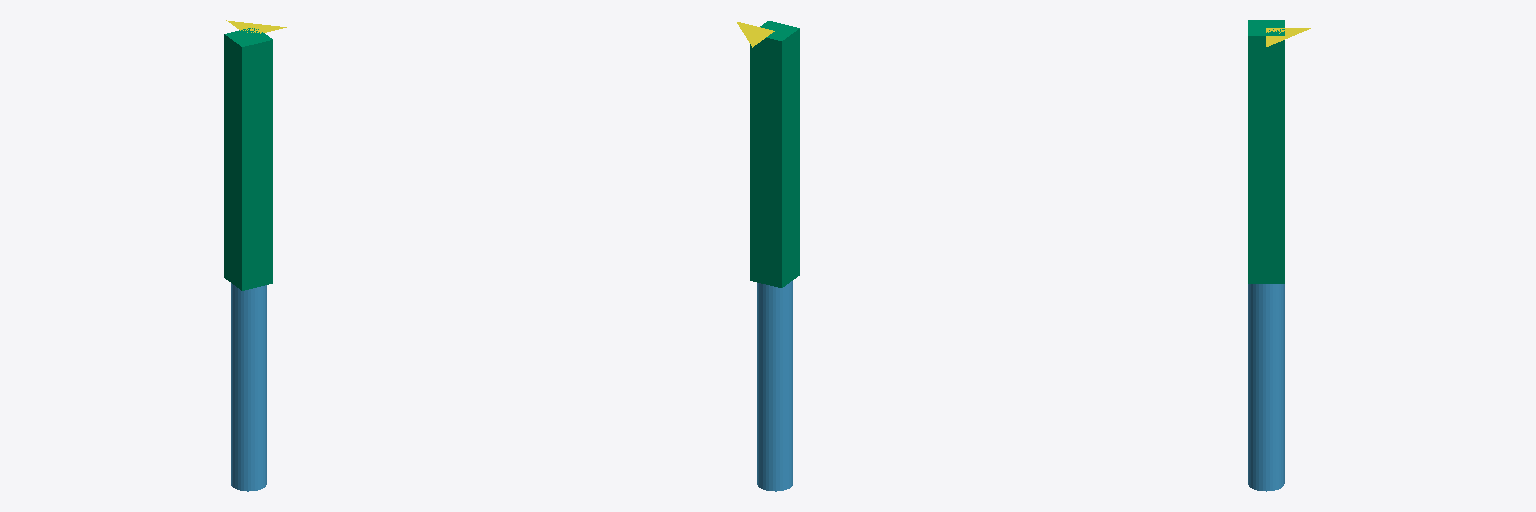
robot.urdf — xacro_arm:
<?xml version="1.0"?>
<!-- Hand-expanded plain-URDF twin of xacro_arm.xacro. The only intended
     difference: the tool mesh uses package:// where the xacro used
     $(find demo_pkg) — both must RESOLVE to the same absolute file. -->
<robot name="xacro_arm">
  <link name="base"/>

  <link name="lower">
    <visual>
      <origin xyz="0 0 0.125" rpy="0 0 0"/>
      <geometry><cylinder radius="0.02" length="0.25"/></geometry>
    </visual>
  </link>
  <joint name="lower_j" type="revolute">
    <origin xyz="0 0 0.1" rpy="0 0 0"/>
    <parent link="base"/>
    <child link="lower"/>
    <axis xyz="0 1 0"/>
    <limit lower="-1.5707963267948966" upper="1.5707963267948966" effort="10" velocity="2"/>
  </joint>

  <link name="upper">
    <visual>
      <origin xyz="0 0 0.15" rpy="0 0 0"/>
      <geometry><box size="0.04 0.04 0.3"/></geometry>
    </visual>
  </link>
  <joint name="upper_j" type="revolute">
    <origin xyz="0 0 0.25" rpy="0 0 0"/>
    <parent link="lower"/>
    <child link="upper"/>
    <axis xyz="0 -1 0"/>
    <limit lower="-1.5707963267948966" upper="1.5707963267948966" effort="10" velocity="2"/>
  </joint>

  <link name="tool">
    <visual>
      <geometry><mesh filename="package://demo_pkg/meshes/part.stl"/></geometry>
    </visual>
  </link>
  <joint name="tool_j" type="fixed">
    <origin xyz="0 0 0.3" rpy="0 0 0"/>
    <parent link="upper"/>
    <child link="tool"/>
  </joint>
</robot>

--- Facts derived from the render (not from the file) ---
3 views of the same robot in one strip: view 1: azimuth 30°, elevation 25°; view 2: azimuth 150°, elevation 25°; view 3: azimuth 270°, elevation 25° (orthographic).
Model xacro_arm with 4 links and 3 joints (2 revolute, 1 fixed), rooted at base, posed every joint at zero.
Visible links, largest first — view 1: upper, lower; view 2: upper, lower; view 3: upper, lower.
Link boxes in pixels (bbox=[...]): upper: bbox=[224, 28, 272, 290]; lower: bbox=[231, 283, 266, 491]; upper: bbox=[750, 21, 799, 287]; lower: bbox=[757, 281, 792, 491]; upper: bbox=[1248, 20, 1284, 283]; lower: bbox=[1248, 284, 1284, 491].
Bounding box of the posed robot: 0.07 × 0.07 × 0.55 m (x, y, z).
Meshes: 1 distinct files referenced, 1 mesh visuals loaded (1 ASCII STL).
